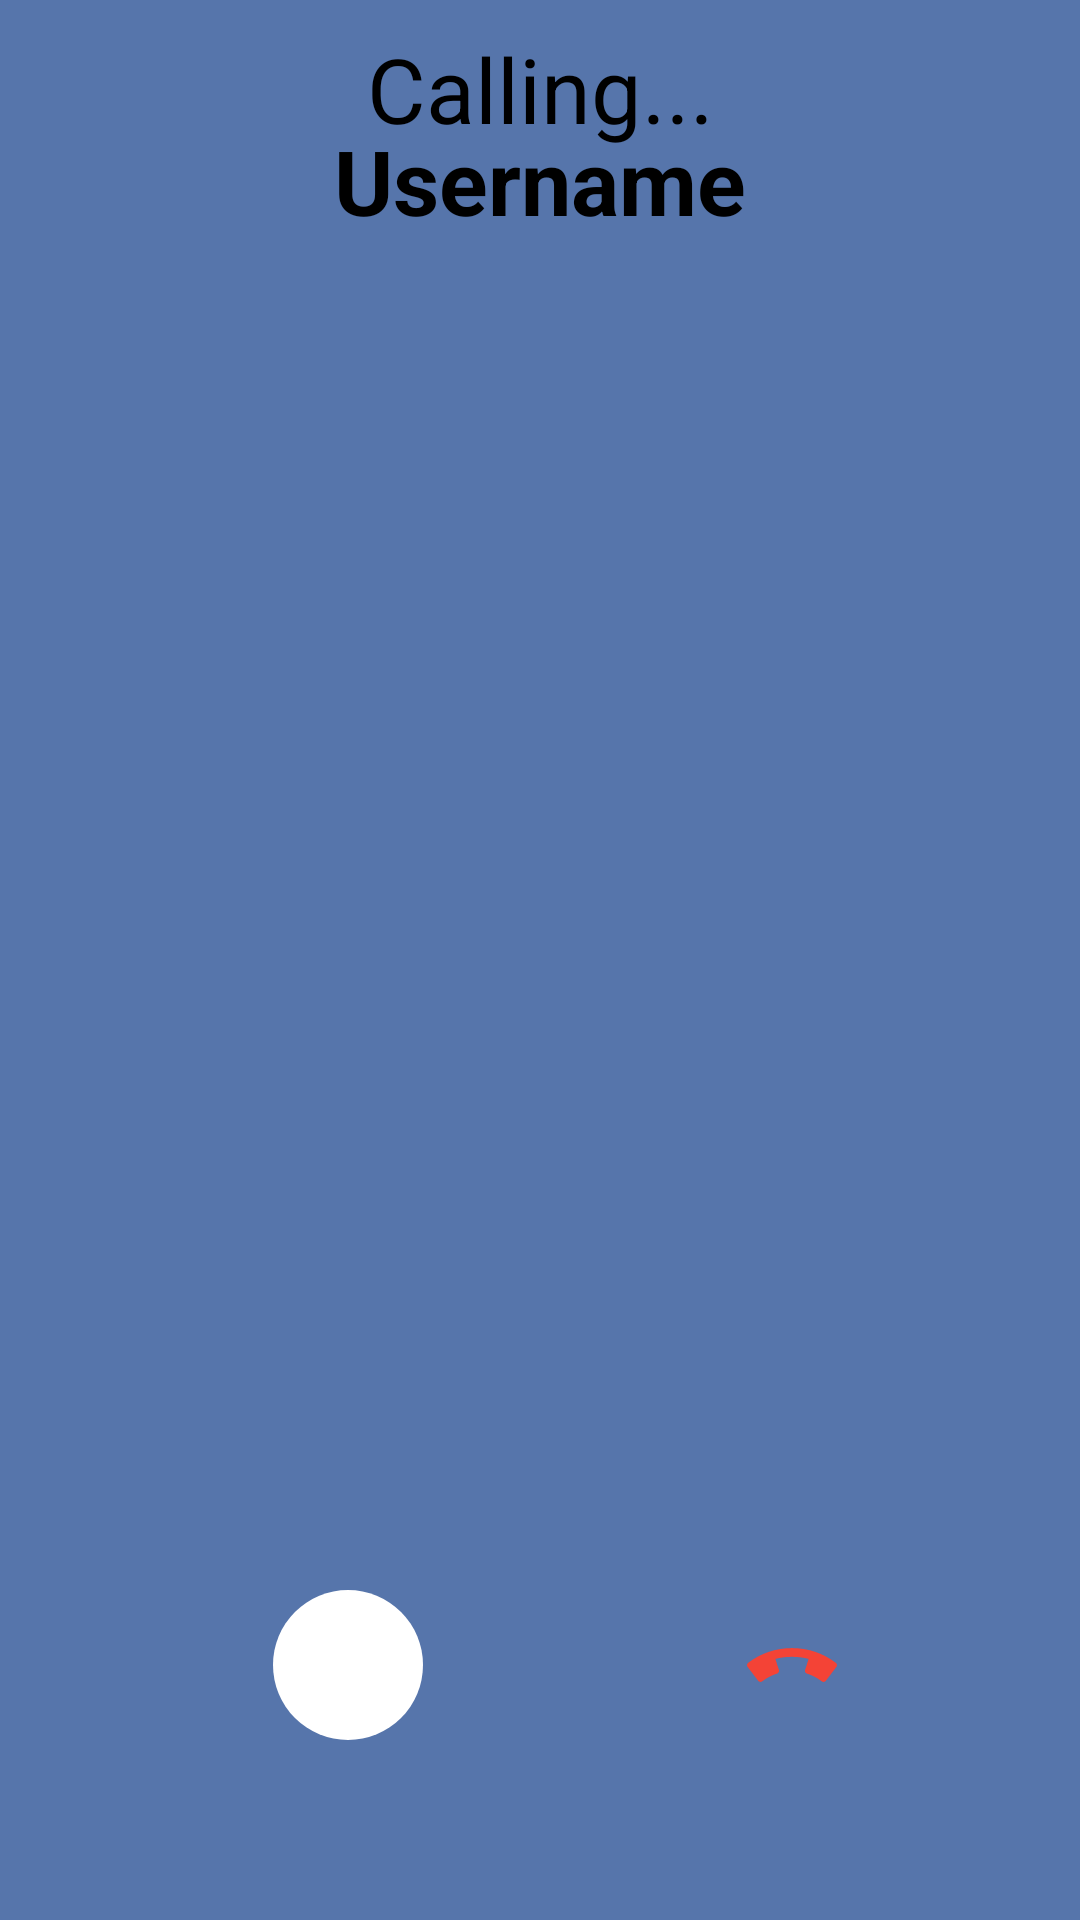

Named icons in this screenshot (1080 x 1920) and their bounding boxes, BBox(x1, y1, x2, y2):
phone call end: BBox(747, 1648, 837, 1682)
